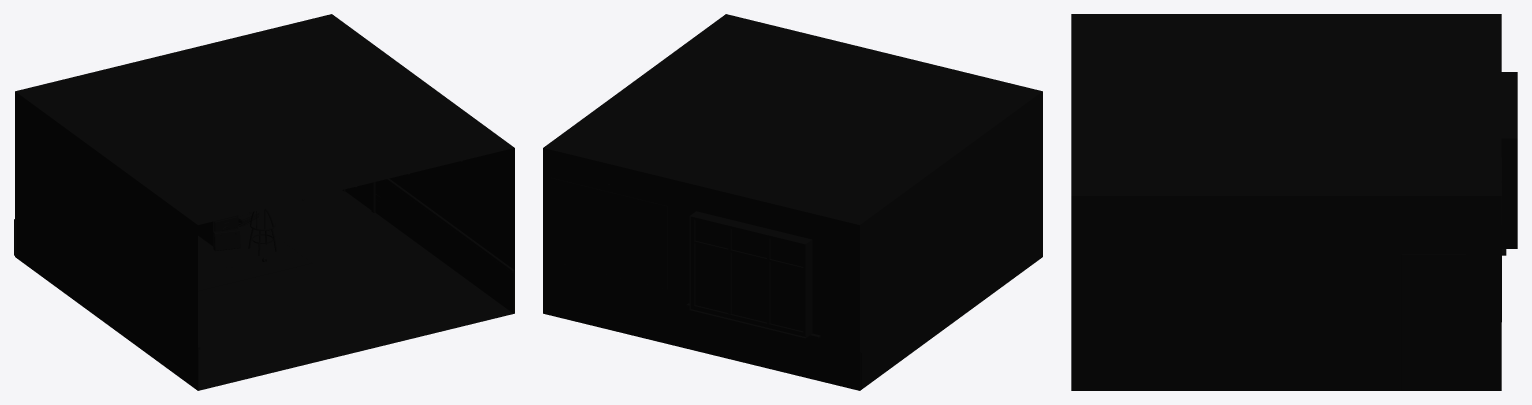
Rendered from office.glb.
3 renders of one model, left to right at view 1: azimuth 30°, elevation 25°; view 2: azimuth 150°, elevation 25°; view 3: azimuth 270°, elevation 25°, orthographic. The views are drawn at different scales.
Parts seen in each view (by area): view 1: static_room; view 2: static_room, pick_board, glass; view 3: static_room.
Boxes of the visible parts, x1,y1,x2,y2 form: static_room: [14, 14, 514, 390]; static_room: [543, 14, 1042, 390]; pick_board: [550, 178, 667, 289]; glass: [695, 220, 803, 331]; static_room: [1071, 14, 1517, 390].
Size of the model in its own units: 6.04 by 3.01 by 6.22.
3 materials, 3 textured.
